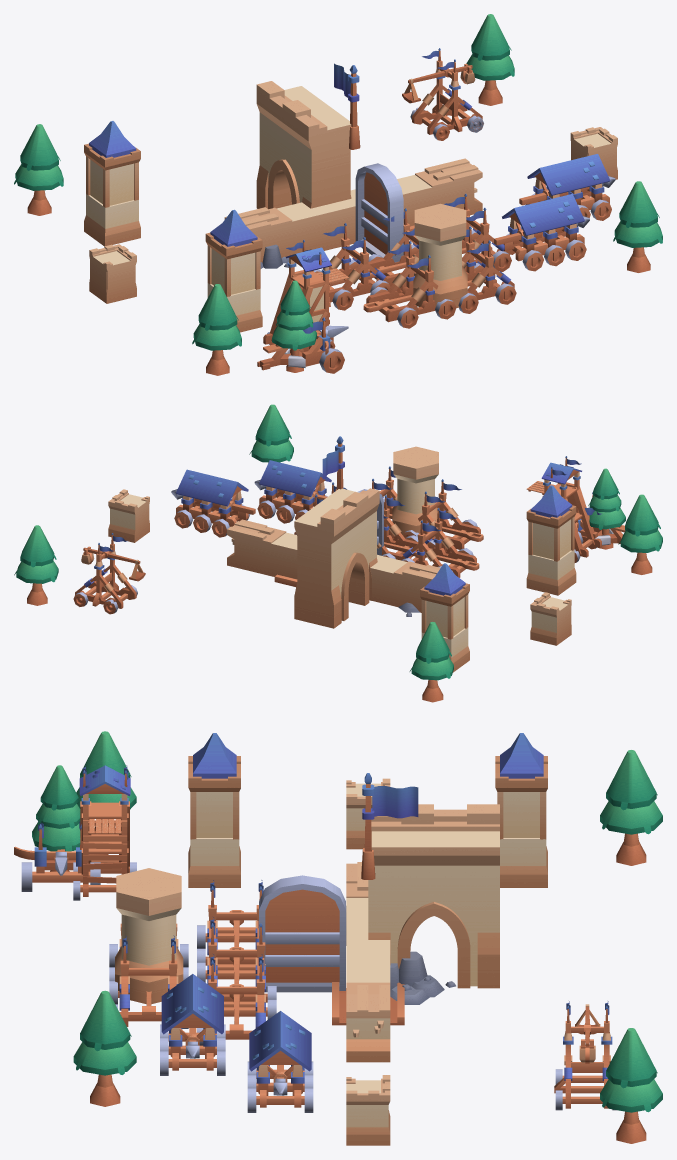
File: animation.glb
The picture shows the model from 3 angles, top to bottom: view 1: azimuth 30°, elevation 25°; view 2: azimuth 150°, elevation 25°; view 3: azimuth 270°, elevation 25°; orthographic projection. The views are drawn at different scales.
Parts seen in each view (by area): view 1: wall-doorway, wall, tower-hexagon-base, gate, siege-ram, siege-tower, siege-ram.001, tree-small.001, tree-small.002, tree-small, tree-small.003, wall-corner (+16 smaller); view 2: wall-doorway, wall, tower-hexagon-base, siege-ram.001, siege-ram, siege-tower, tree-small, tree-small.001, tree-small.003, wall-corner, WallCorner_R, siege-trebuchet (+14 smaller); view 3: wall-doorway, gate, wall, tower-hexagon-base, siege-tower, siege-ram.001, siege-ram, tree-small.002, tree-small.001, tree-small.003, WallCorner_R, tree-large (+17 smaller).
Boxes of the visible parts, x1,y1,x2,y2 form: wall-doorway: [256, 81, 351, 209]; wall: [224, 158, 482, 262]; tower-hexagon-base: [413, 203, 467, 307]; gate: [355, 163, 403, 262]; siege-ram: [502, 194, 584, 261]; siege-tower: [263, 240, 349, 344]; siege-ram.001: [527, 154, 610, 210]; tree-small.001: [14, 124, 63, 215]; tree-small.002: [613, 181, 662, 272]; tree-small: [192, 284, 241, 375]; tree-small.003: [466, 14, 514, 105]; wall-corner: [89, 244, 136, 303]; wall-doorway: [294, 488, 379, 628]; wall: [227, 519, 452, 612]; tower-hexagon-base: [392, 446, 439, 536]; siege-ram.001: [176, 469, 248, 526]; siege-ram: [259, 460, 331, 513]; siege-tower: [526, 456, 601, 557]; tree-small: [618, 494, 662, 574]; tree-small.001: [409, 622, 453, 702]; tree-small.003: [14, 525, 58, 605]; wall-corner: [530, 592, 571, 645]; WallCorner_R: [108, 489, 149, 542]; siege-trebuchet: [75, 533, 136, 608]; wall-doorway: [368, 804, 499, 988]; gate: [259, 875, 345, 992]; wall: [346, 862, 390, 1062]; tower-hexagon-base: [115, 868, 183, 1004]; siege-tower: [79, 765, 130, 896]; siege-ram.001: [249, 1011, 311, 1107]; siege-ram: [161, 974, 223, 1070]; tree-small.002: [73, 990, 136, 1106]; tree-small.001: [600, 750, 662, 865]; tree-small.003: [600, 1028, 662, 1143]; WallCorner_R: [346, 1075, 390, 1145]; tree-large: [32, 765, 80, 871].
Size of what is drawn, in the model's own units: 17.48 by 5.62 by 14.8.
23 materials, 23 textured.
